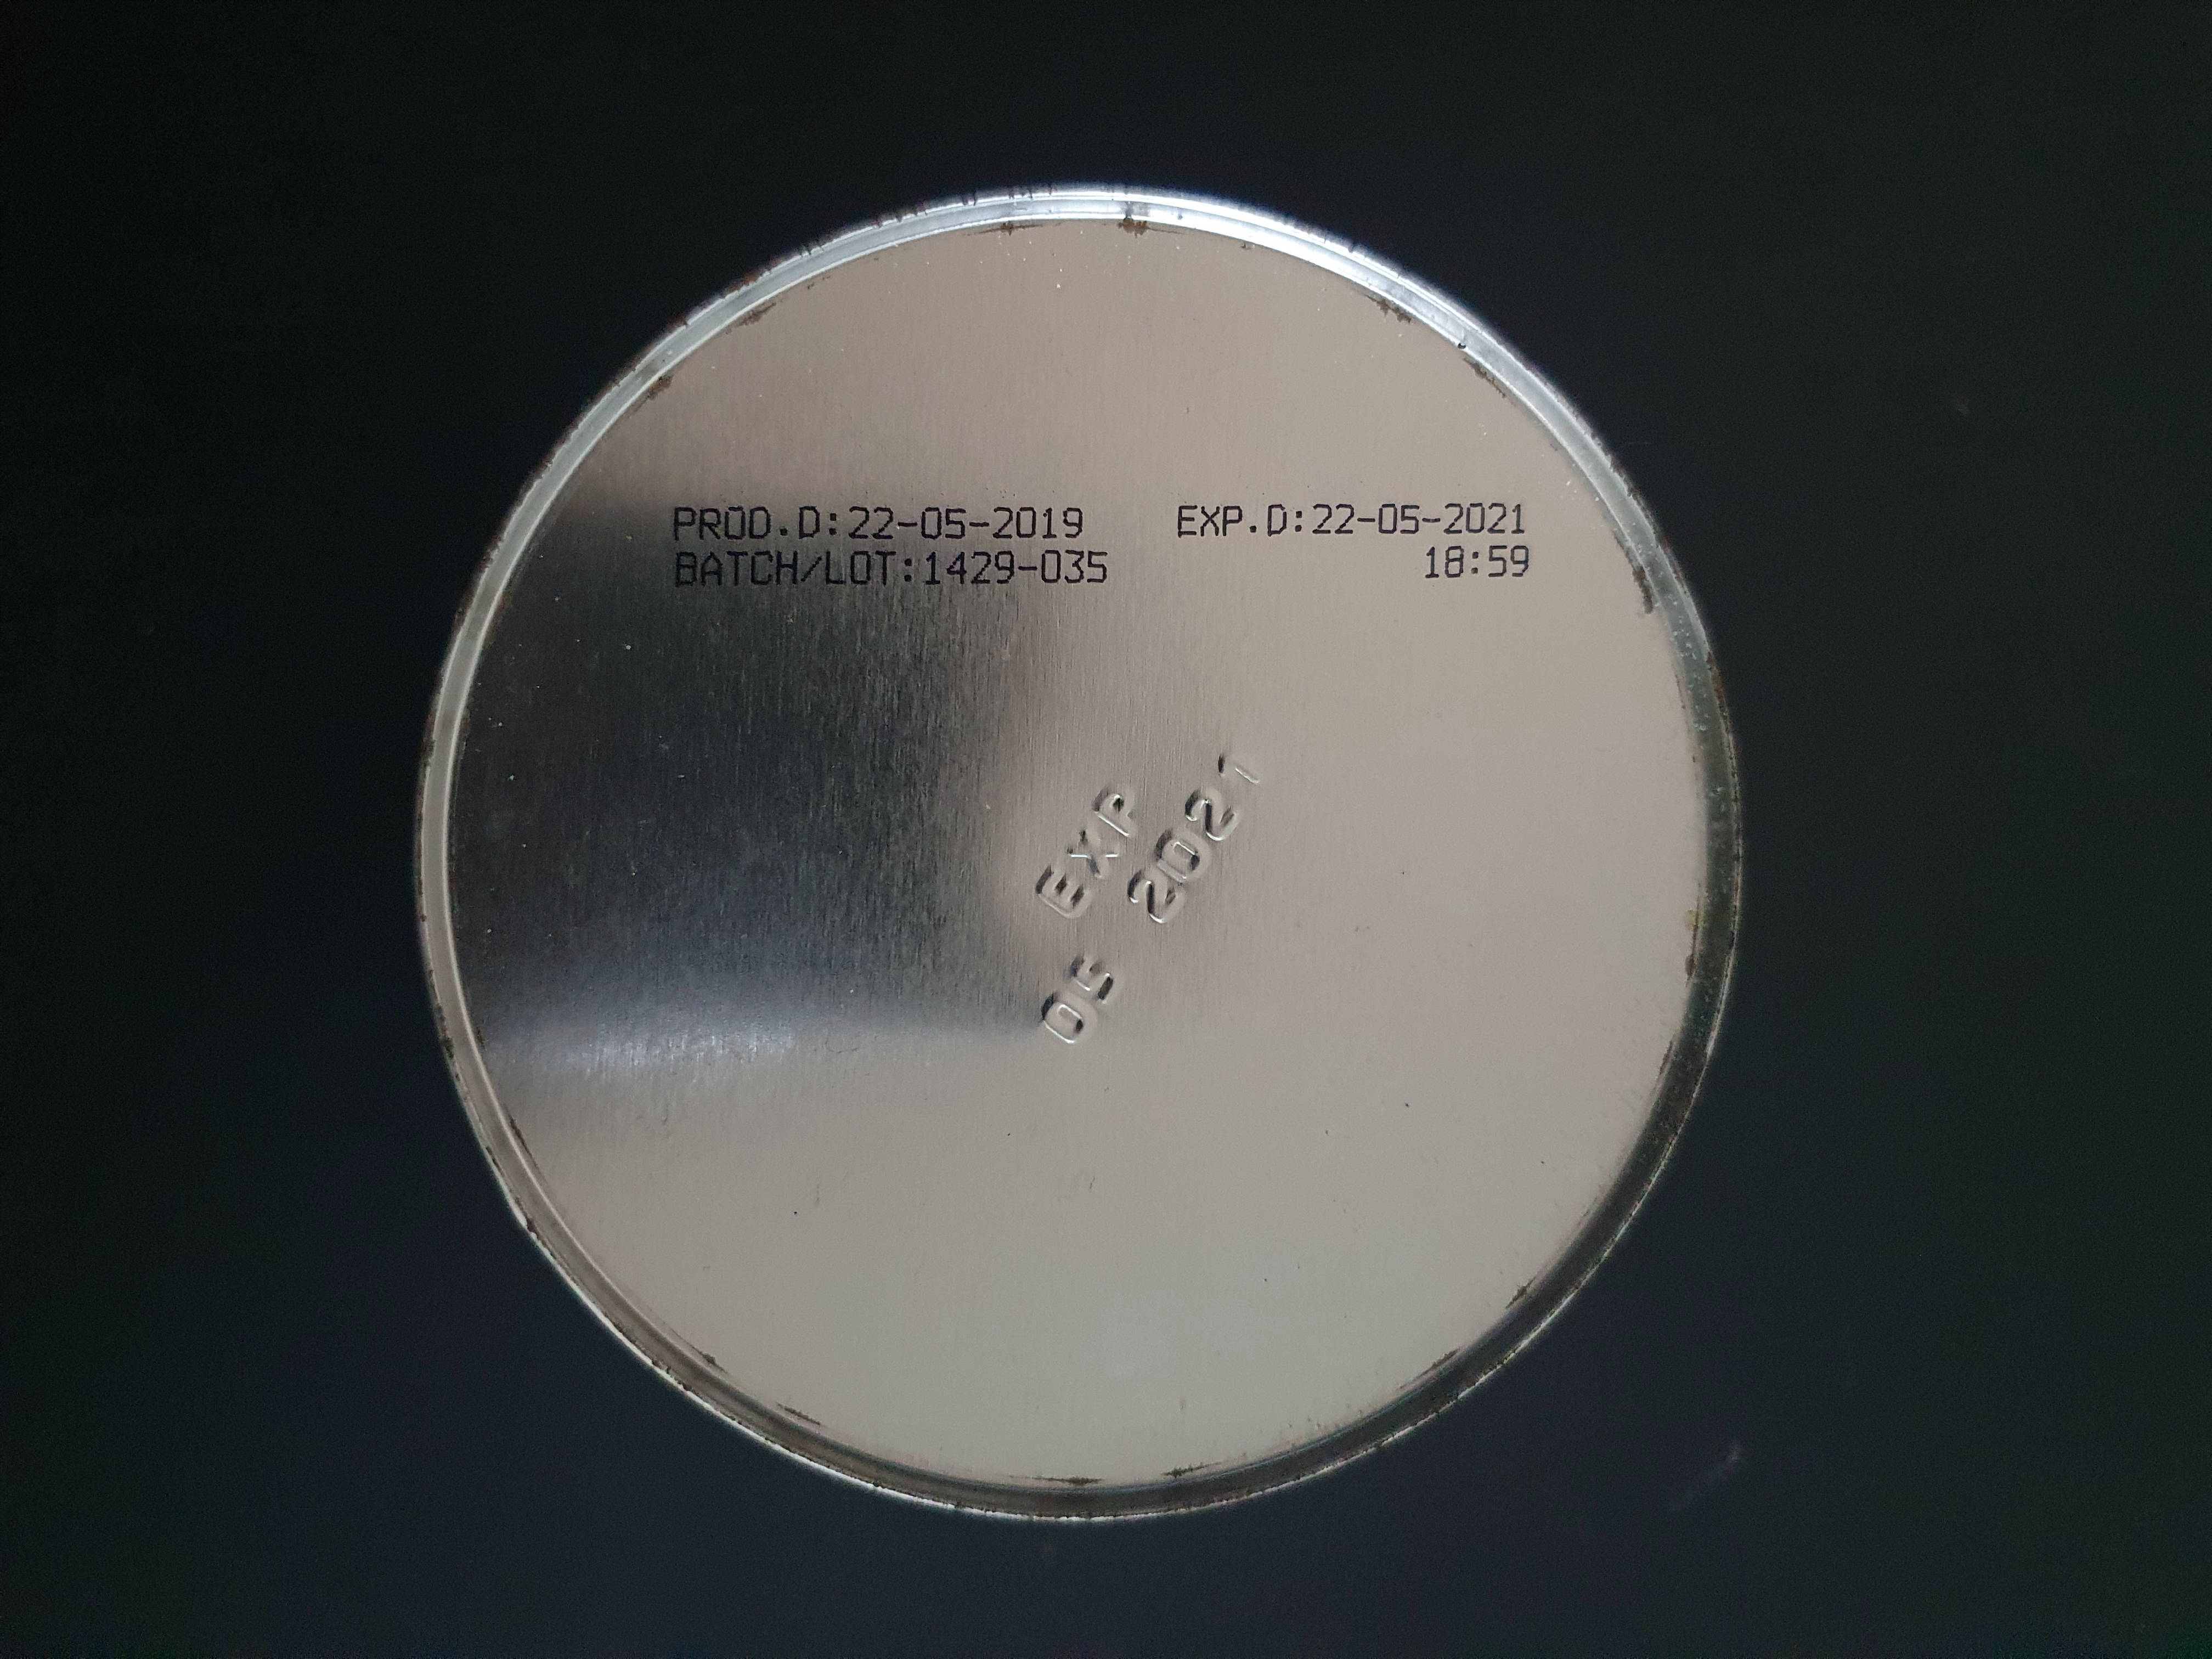metal: (366, 159, 1761, 1563)
